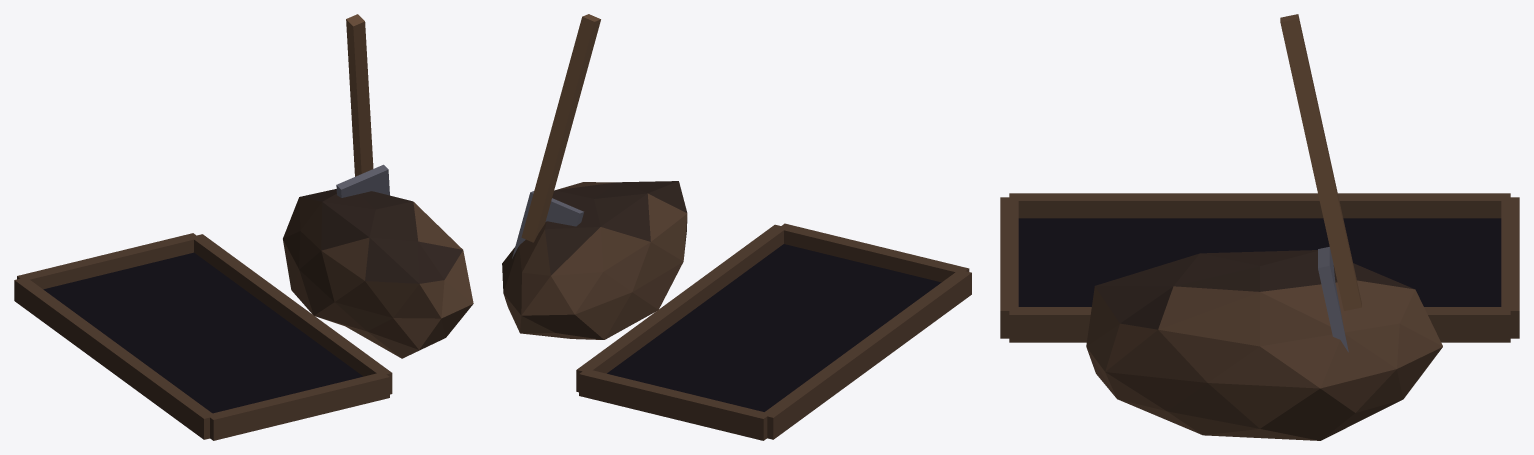
File: grave_open.glb
The picture shows the model from 3 angles, left to right: view 1: azimuth 30°, elevation 25°; view 2: azimuth 150°, elevation 25°; view 3: azimuth 270°, elevation 25°; orthographic projection. The views are drawn at different scales.
Parts seen in each view (by area): view 1: grave_open; view 2: grave_open; view 3: grave_open.
Boxes of the visible parts, left/top/right/bottom form: grave_open: left=14, top=14, right=473, bottom=440; grave_open: left=502, top=14, right=971, bottom=440; grave_open: left=1000, top=14, right=1519, bottom=440.
Size of the model in its own units: 0.8271 by 0.7265 by 0.85.
